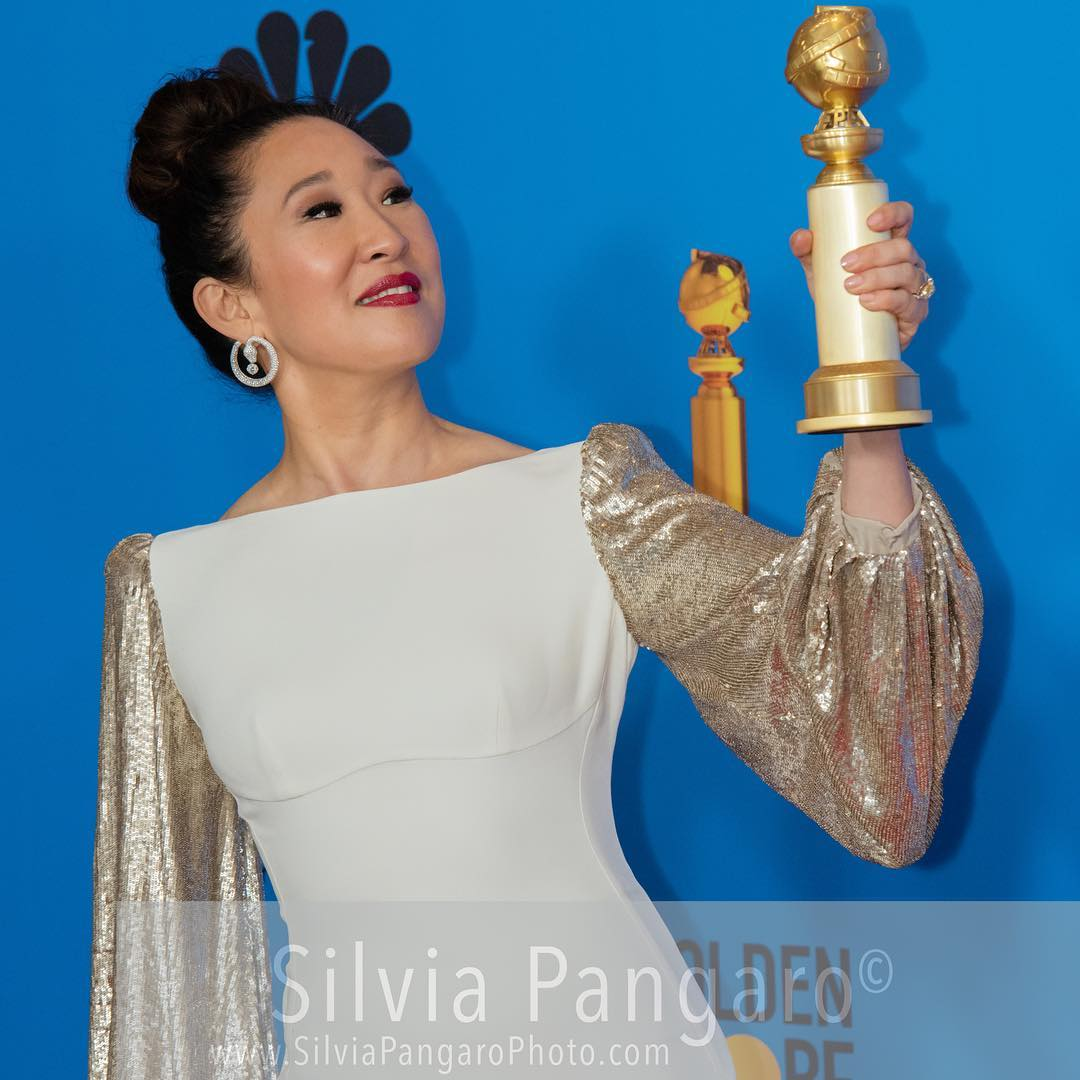hand: (803, 206, 923, 423)
